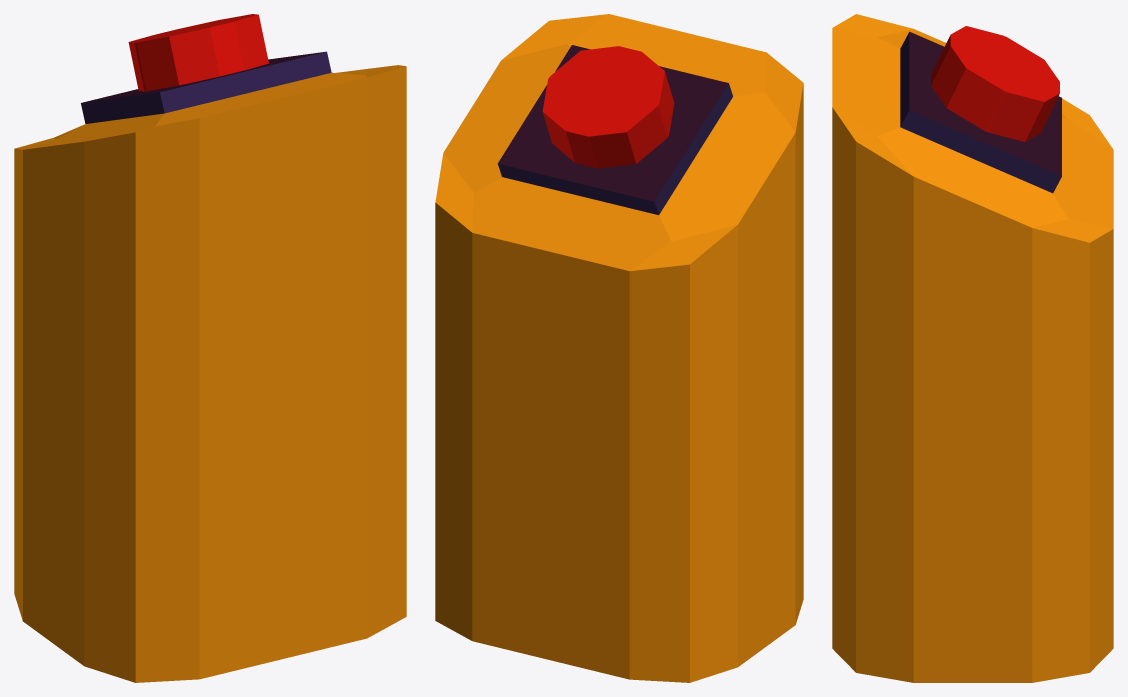
File: LuggageButton.fbx
The picture shows the model from 3 angles, left to right: view 1: azimuth 30°, elevation 25°; view 2: azimuth 150°, elevation 25°; view 3: azimuth 270°, elevation 25°; orthographic projection. The views are drawn at different scales.
Visible parts, largest first — view 1: Cube.013; view 2: Cube.013; view 3: Cube.013.
Part boxes in pixels (bbox=[...]): Cube.013: bbox=[14, 14, 406, 682]; Cube.013: bbox=[435, 14, 803, 682]; Cube.013: bbox=[832, 14, 1113, 682].
Bounding box in the file's own units: 3.16 × 5.66 × 2.54.
Materials: 1 (1 with a texture image).
